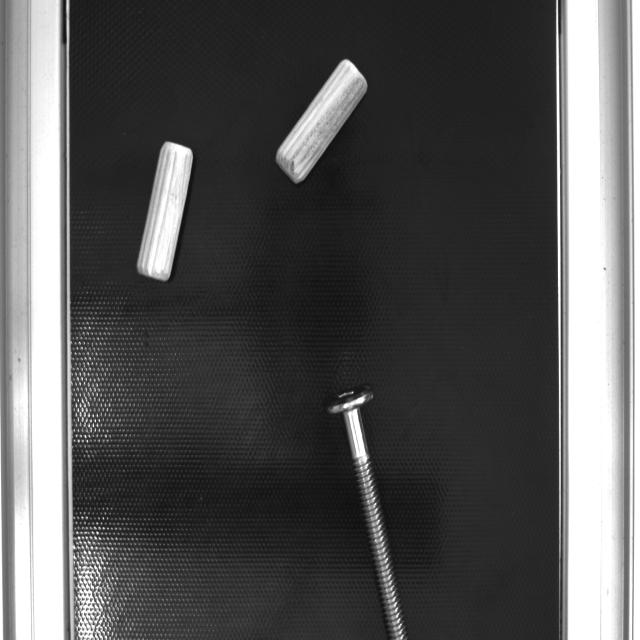Chot go: (271, 54, 372, 189), (133, 139, 196, 282)
bulon: (342, 408, 410, 639)
